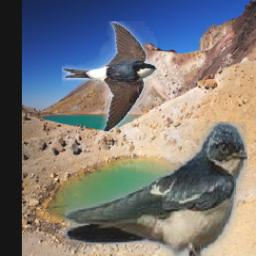Swallow: (65, 123, 247, 256), (62, 22, 157, 132)
